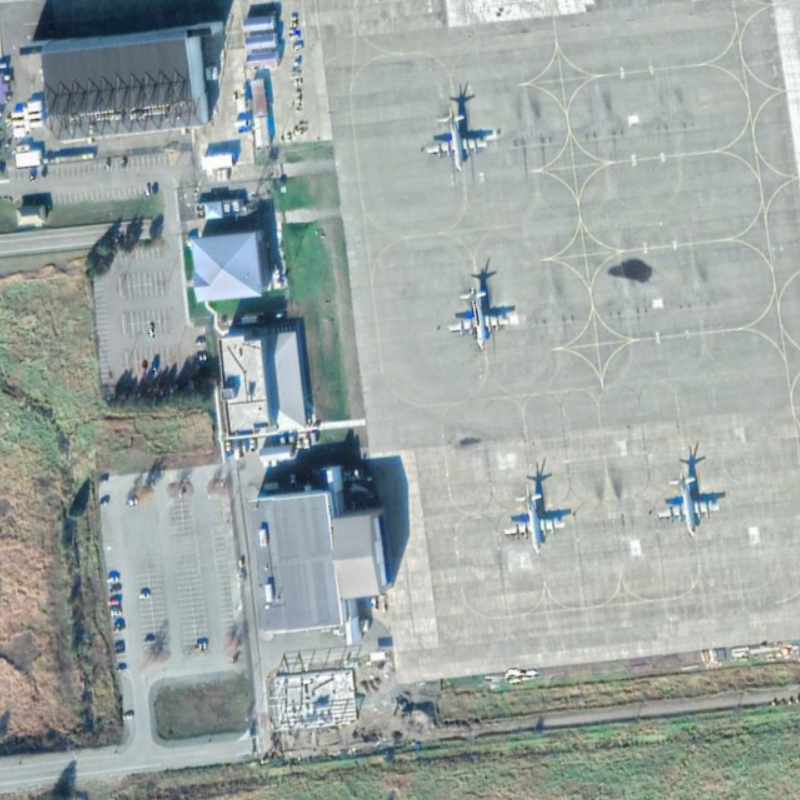A9: (500, 480, 569, 556), (654, 467, 723, 541), (422, 105, 490, 174), (445, 284, 513, 351)
